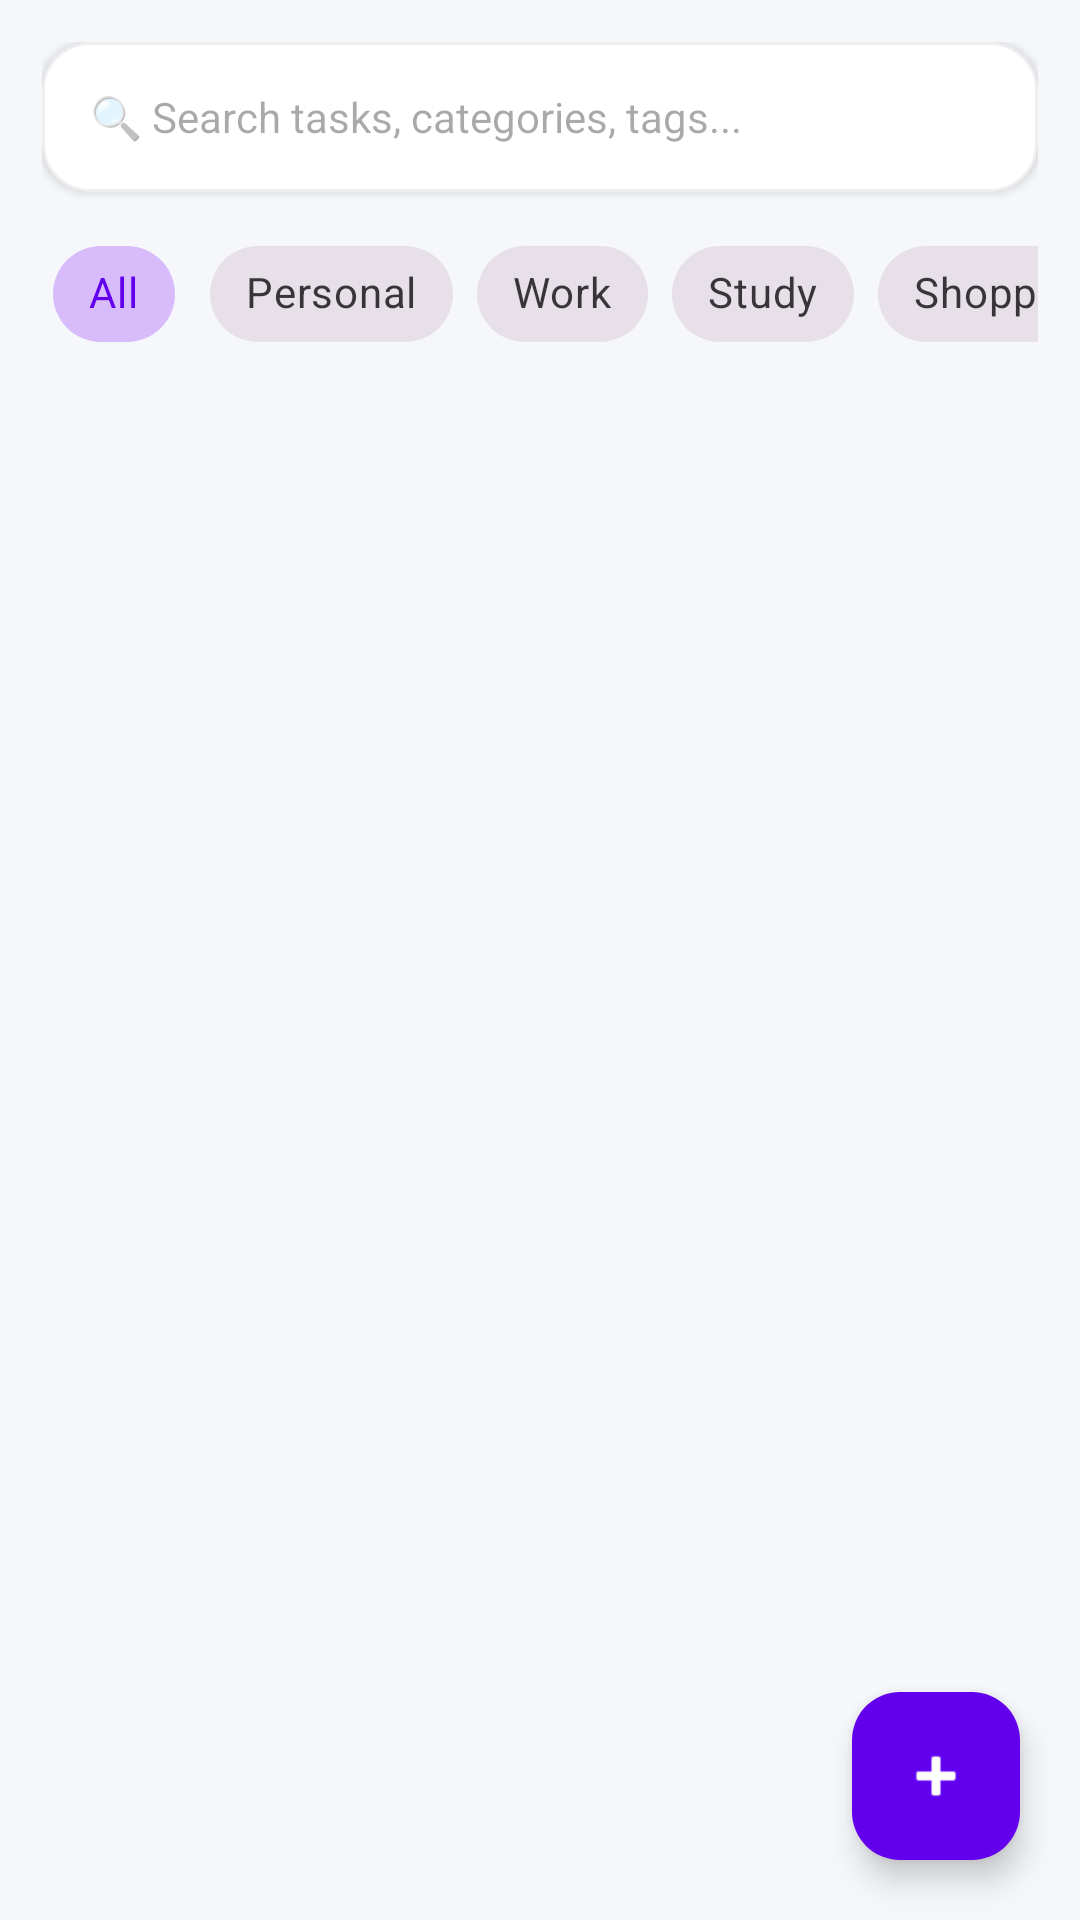

Icons on this 1080*1920 Android screen, each with the point to tap as (x,y):
Add Task: (936,1776)
